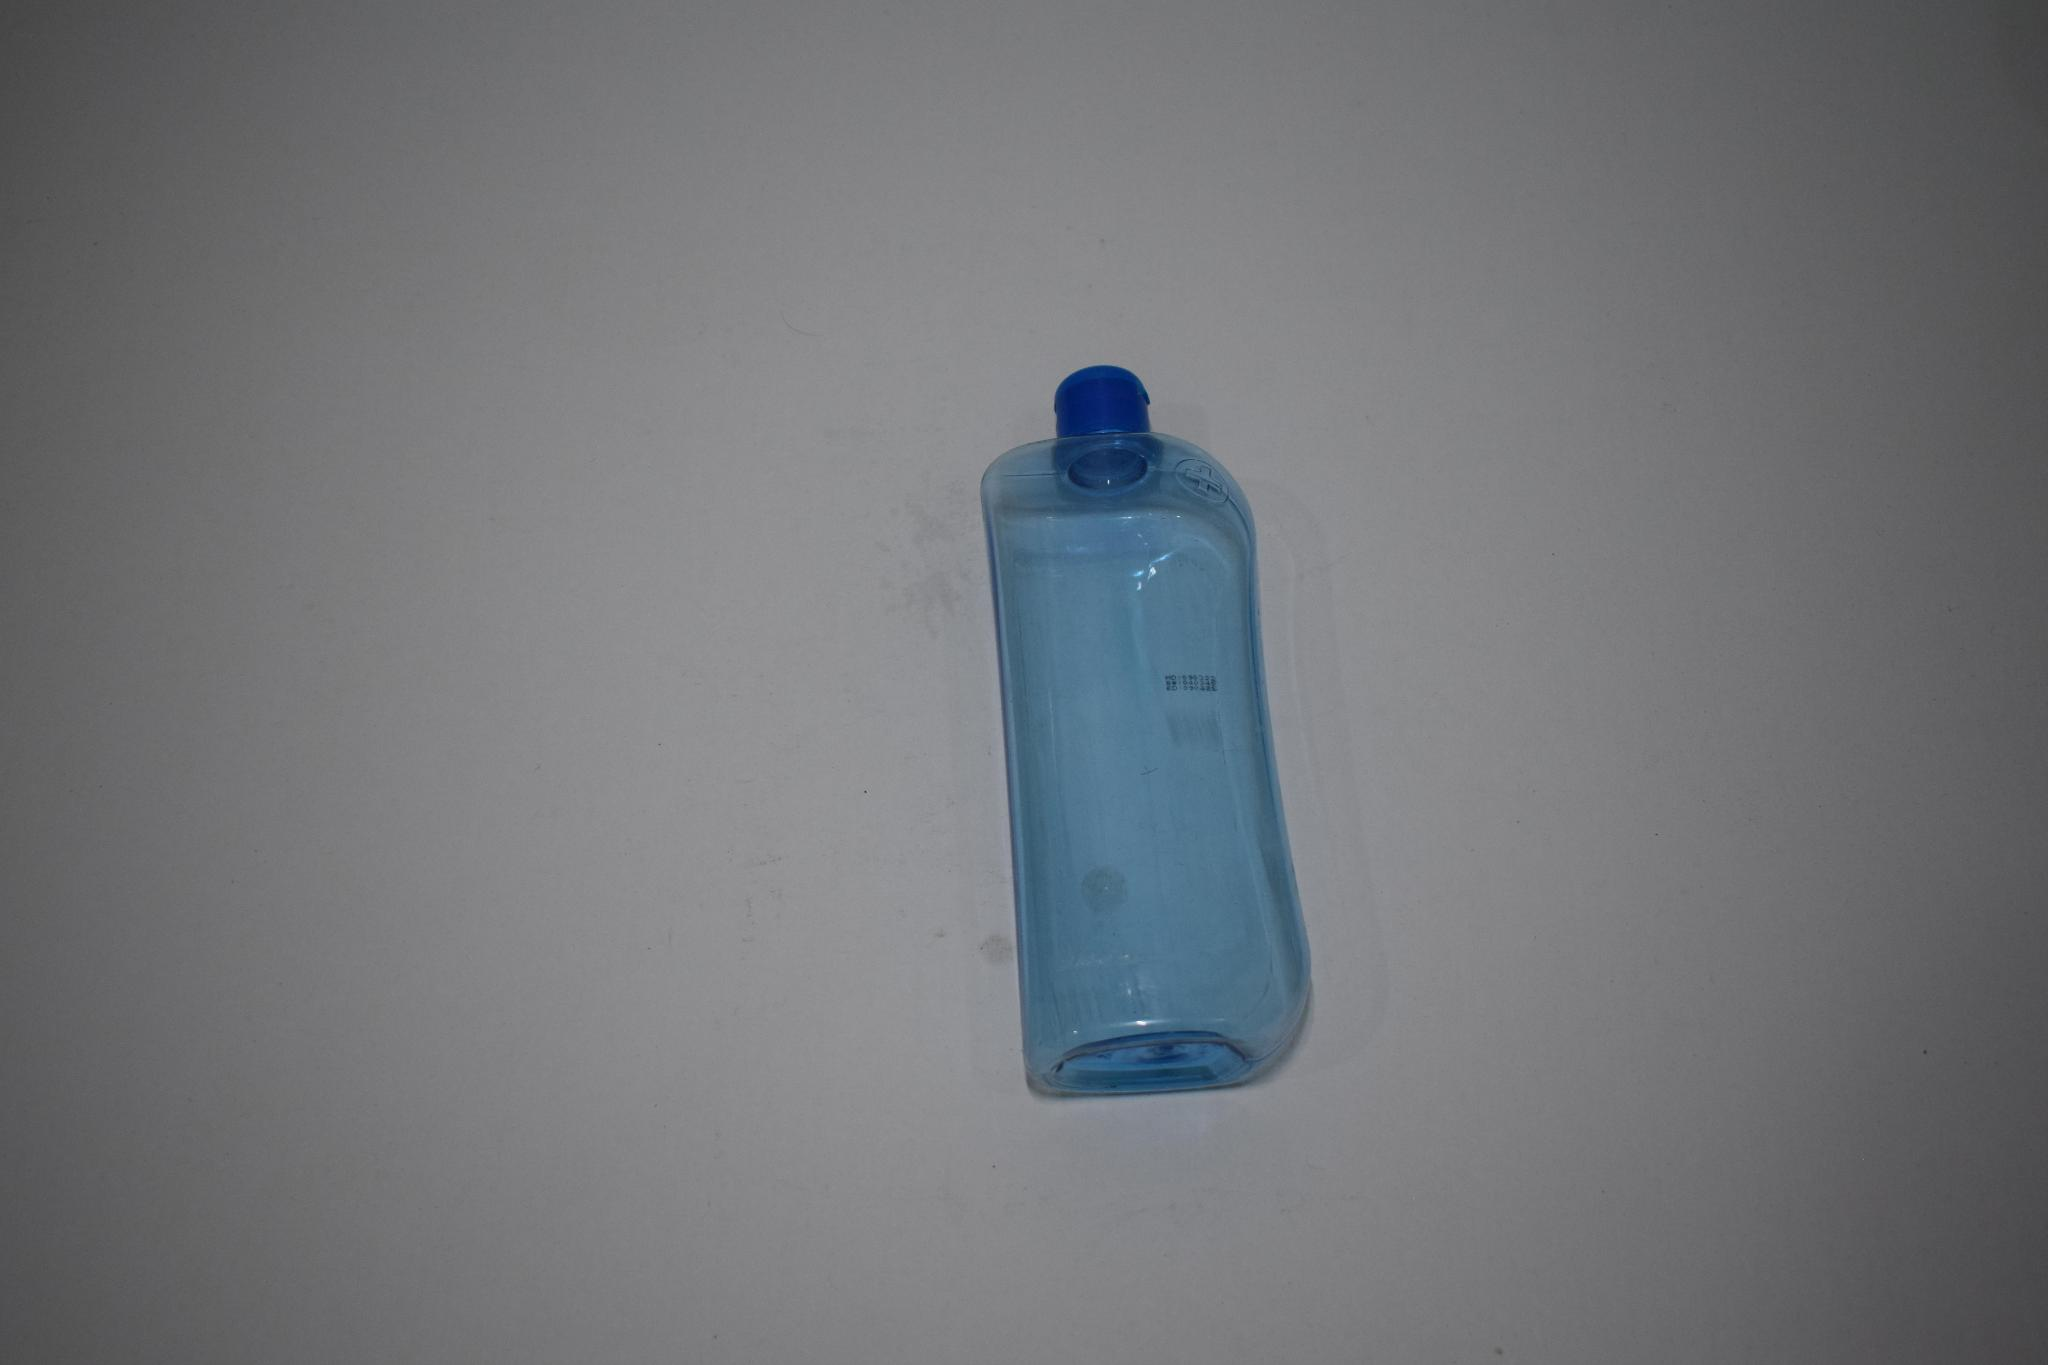bottle: (975, 355, 1317, 1115)
